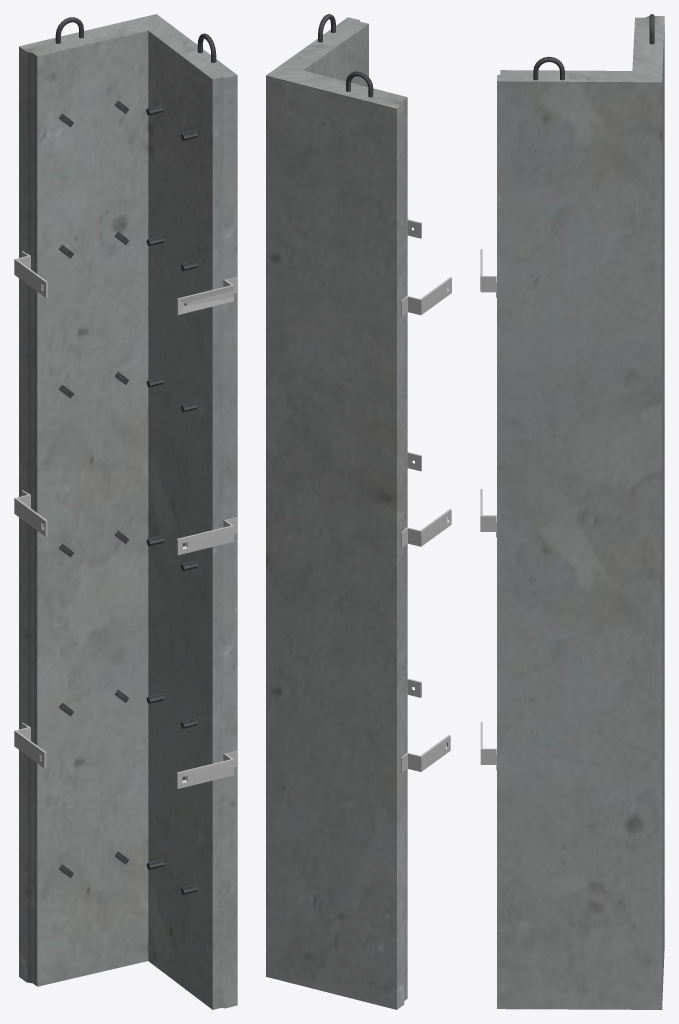
The model's file is PCF板.FBX.
3 views of the same model, side by side, from view 1: azimuth 30°, elevation 25°; view 2: azimuth 150°, elevation 25°; view 3: azimuth 270°, elevation 25° (orthographic). The views are drawn at different scales.
Visible parts, largest first — view 1: JJ_PCF; view 2: JJ_PCF; view 3: JJ_PCF.
Boxes of the visible parts, x1,y1,x2,y2 form: JJ_PCF: [14, 14, 237, 1009]; JJ_PCF: [266, 14, 451, 1009]; JJ_PCF: [480, 14, 664, 1009].
Size of the model in its own units: 49.95 by 300 by 52.91.
